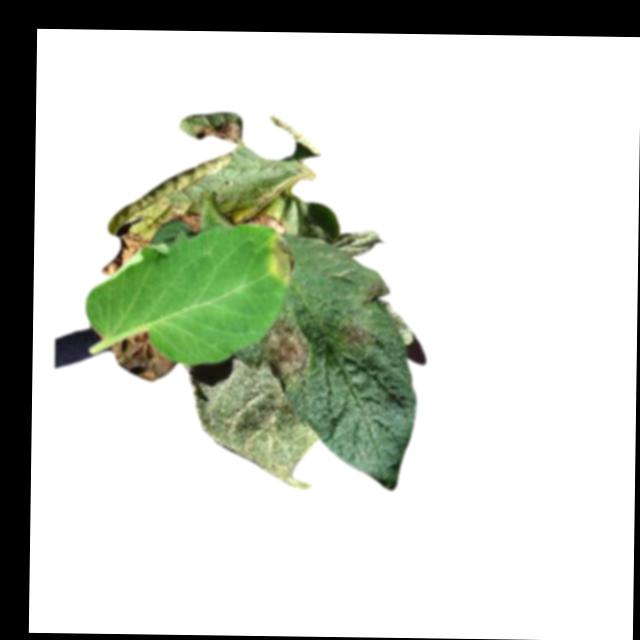Late_blight: (106, 329, 177, 382), (265, 318, 307, 385), (100, 231, 153, 276), (332, 317, 376, 353), (265, 233, 294, 285), (196, 117, 240, 143), (243, 214, 286, 232), (171, 211, 201, 233), (362, 283, 383, 307)
